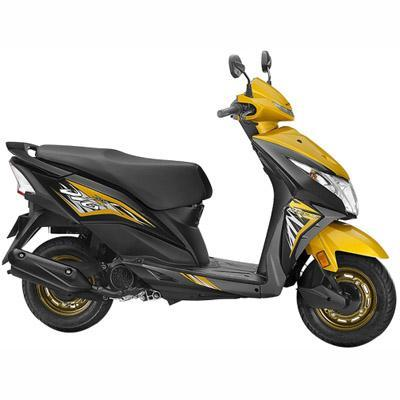motorbike: (1, 50, 397, 347)
